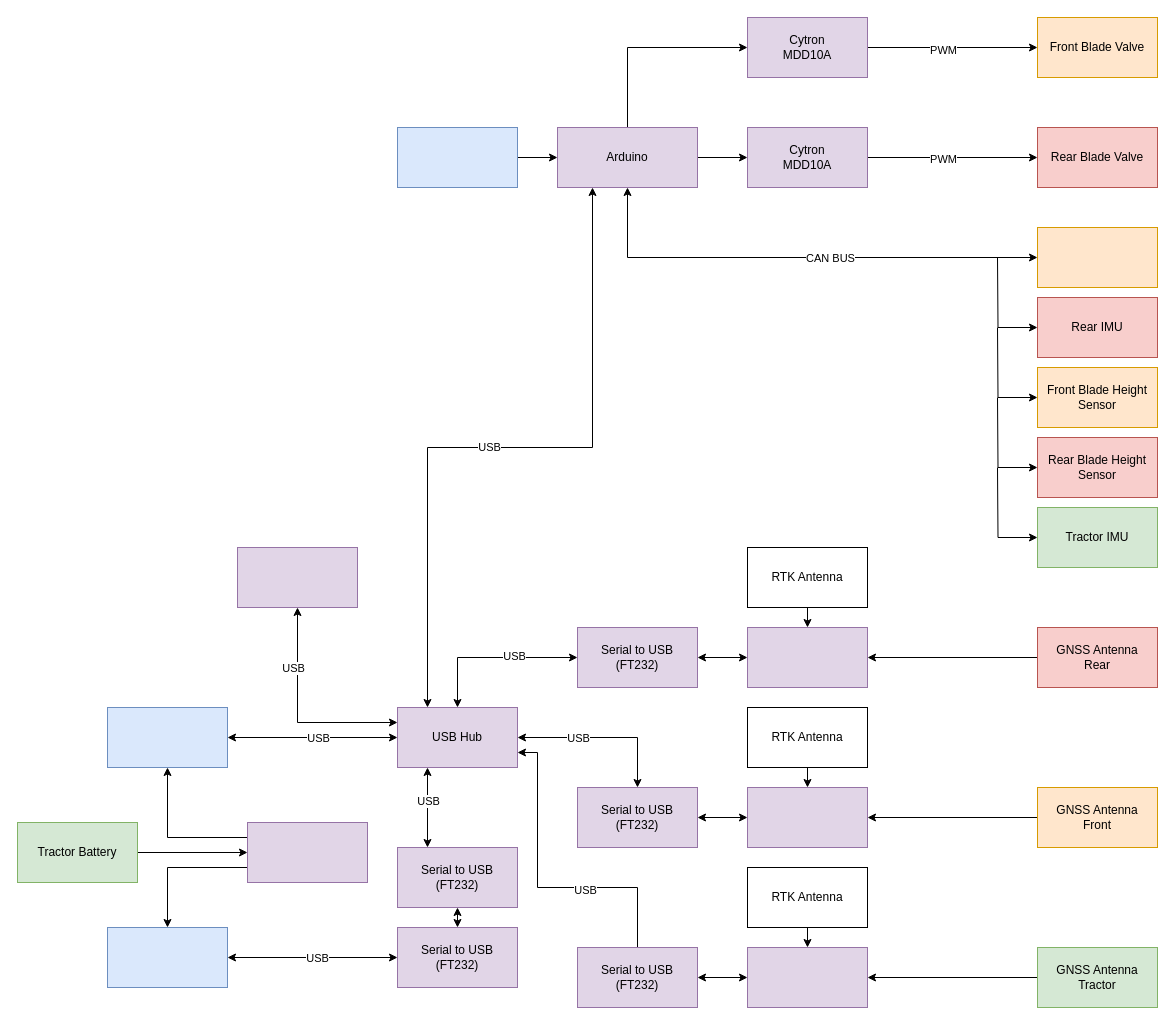
This 1175x1025 diagram has some shape labels left out. The shapes that lost their labels are listed below. From the top down, each one's centre as x and y in pixels, then its label:
At point 457,157: "Buttons".
At point 1097,257: "Front IMU".
At point 297,577: "Spare USB Ports".
At point 807,657: "SimpleRTK2B Rear".
At point 167,737: "Primary Tablet (OpenGrade3D)".
At point 807,817: "SimpleRTK2B Front".
At point 307,852: "16V Regulator".
At point 167,957: "Secondary Tablet (Haul Planner)".
At point 807,977: "SimpleRTK2B Tractor".
